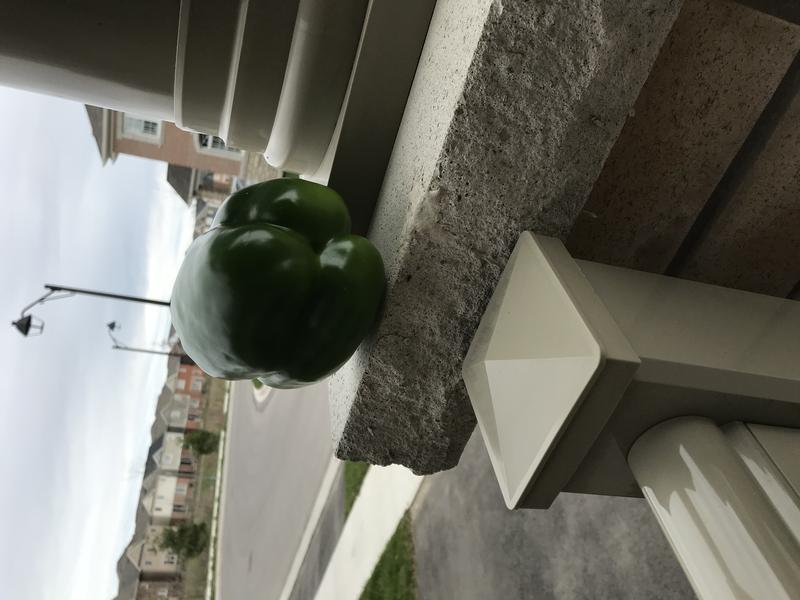green_pepper: (158, 174, 395, 409)
